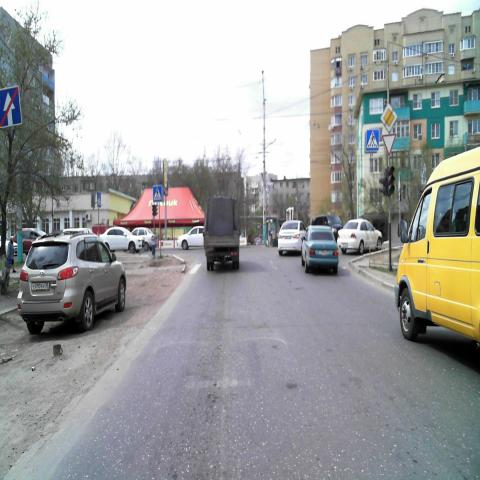2_4: (381, 134, 396, 155)
